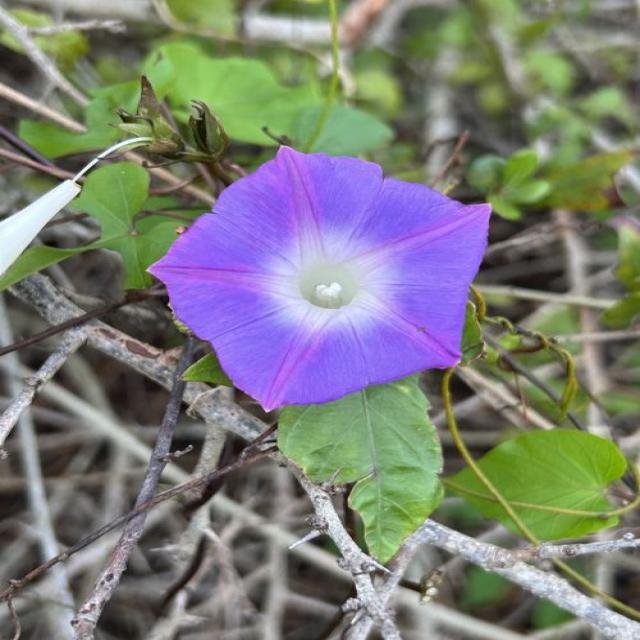ipomoea: (142, 143, 495, 414)
